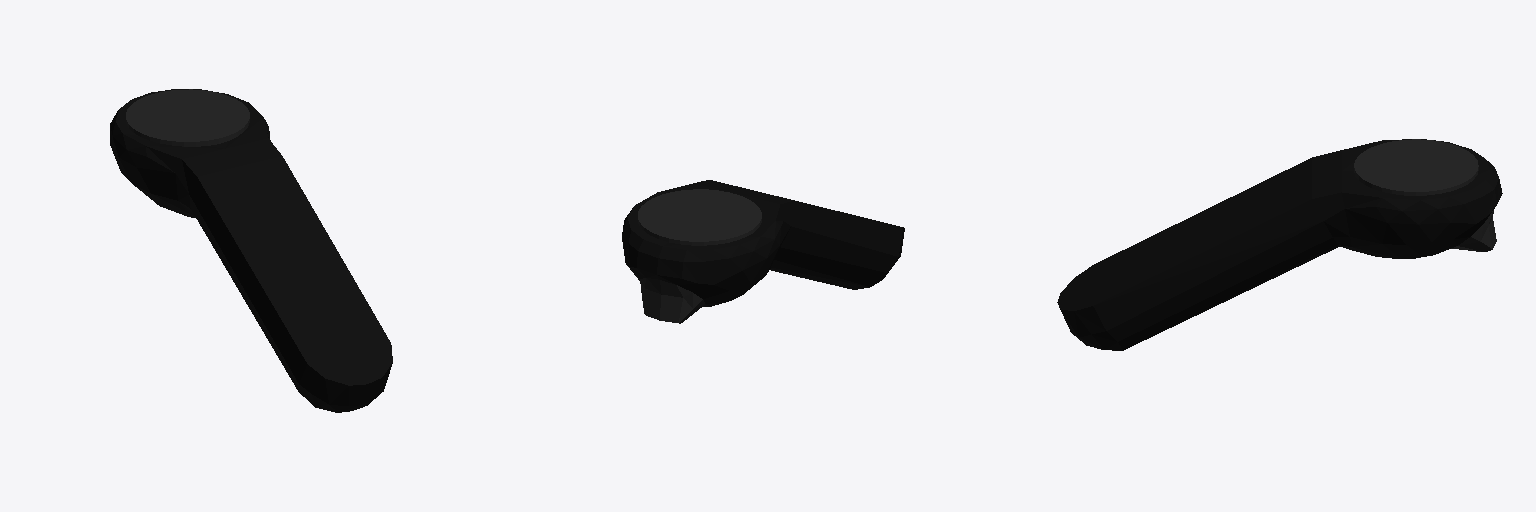
The model's file is gear_vr_controller.obj.
3 views of the same model, side by side, from view 1: azimuth 30°, elevation 25°; view 2: azimuth 150°, elevation 25°; view 3: azimuth 270°, elevation 25° (orthographic).
Parts seen in each view (by area): view 1: Base, Touchpad; view 2: Base, Touchpad, Trigger; view 3: Base, Touchpad, Trigger.
Part boxes in pixels (x1,y1,x2,y2): Base: (110,89,392,412); Touchpad: (126,89,249,146); Base: (622,180,904,306); Touchpad: (638,189,761,245); Trigger: (640,278,704,323); Base: (1057,139,1502,350); Touchpad: (1354,139,1478,195); Trigger: (1451,210,1496,251).
Size of the model in its own units: 0.0391 by 0.0495 by 0.1106.